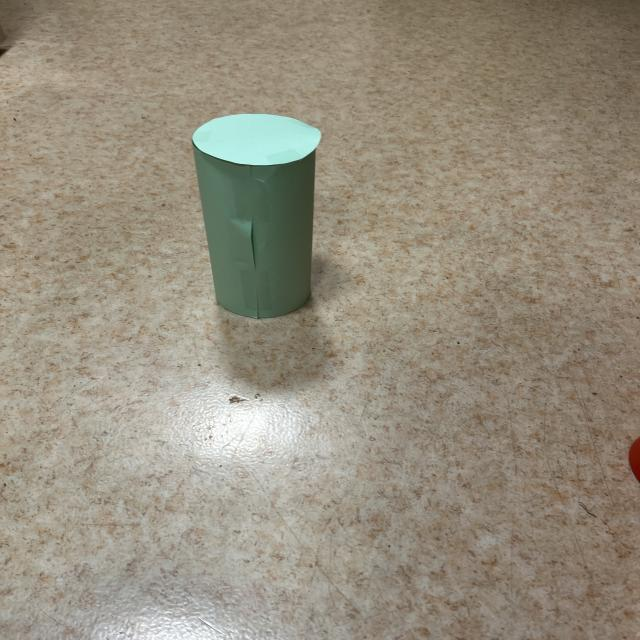meta: (193, 115, 320, 318)
